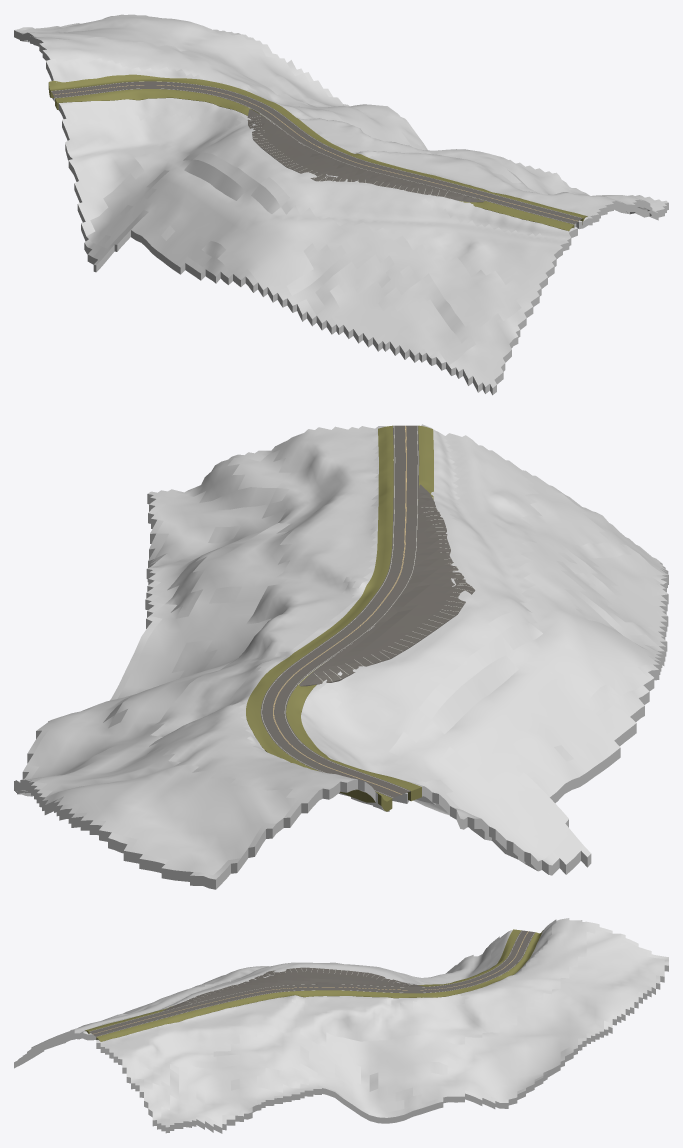
File: conz_165.glb
The picture shows the model from 3 angles, top to bottom: view 1: azimuth 30°, elevation 25°; view 2: azimuth 150°, elevation 25°; view 3: azimuth 270°, elevation 25°; orthographic projection. The views are drawn at different scales.
Parts seen in each view (by area): view 1: terrain165, road165, lot165_13, verge165R, verge165L; view 2: terrain165, road165, lot165_13, verge165R, verge165L, paint_white165, paint_yellow165; view 3: terrain165, road165, verge165R, lot165_13, verge165L, paint_yellow165.
Boxes of the visible parts, x1=… form: terrain165: x1=14, y1=14, x2=668, y2=395; road165: x1=51, y1=81, x2=582, y2=224; lot165_13: x1=247, y1=109, x2=484, y2=202; verge165R: x1=48, y1=74, x2=587, y2=224; verge165L: x1=55, y1=89, x2=574, y2=231; terrain165: x1=14, y1=424, x2=668, y2=889; road165: x1=260, y1=425, x2=419, y2=798; lot165_13: x1=299, y1=484, x2=475, y2=686; verge165R: x1=246, y1=425, x2=393, y2=811; verge165L: x1=286, y1=425, x2=433, y2=801; paint_white165: x1=261, y1=425, x2=418, y2=797; paint_yellow165: x1=273, y1=425, x2=406, y2=794; terrain165: x1=14, y1=918, x2=668, y2=1133; road165: x1=89, y1=930, x2=535, y2=1036; verge165R: x1=96, y1=930, x2=542, y2=1041; lot165_13: x1=162, y1=967, x2=425, y2=1011; verge165L: x1=85, y1=929, x2=521, y2=1033; paint_yellow165: x1=93, y1=931, x2=528, y2=1034.
Bounding box in the file's own units: 194 × 53.3 × 302.
